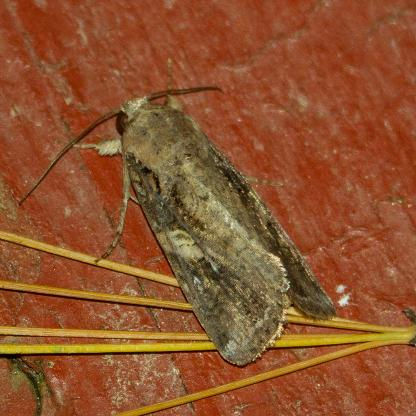Fall Armyworm Moth: (16, 54, 342, 372)
